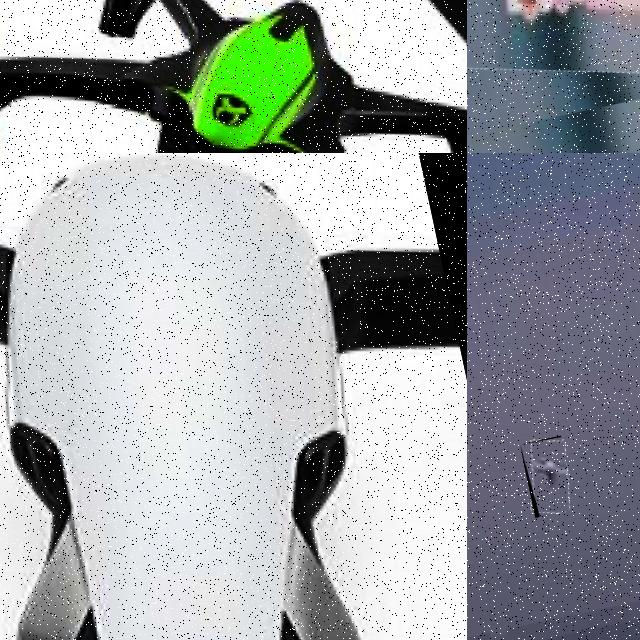drone: (0, 153, 467, 640), (0, 0, 467, 153), (467, 0, 640, 140), (520, 435, 576, 517)
